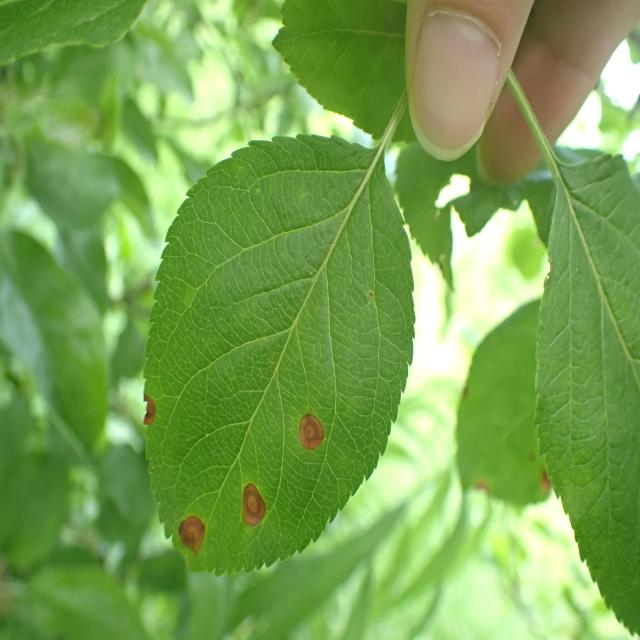Black Rot: (231, 475, 279, 538), (169, 507, 207, 568), (293, 397, 326, 463), (138, 377, 168, 440)
